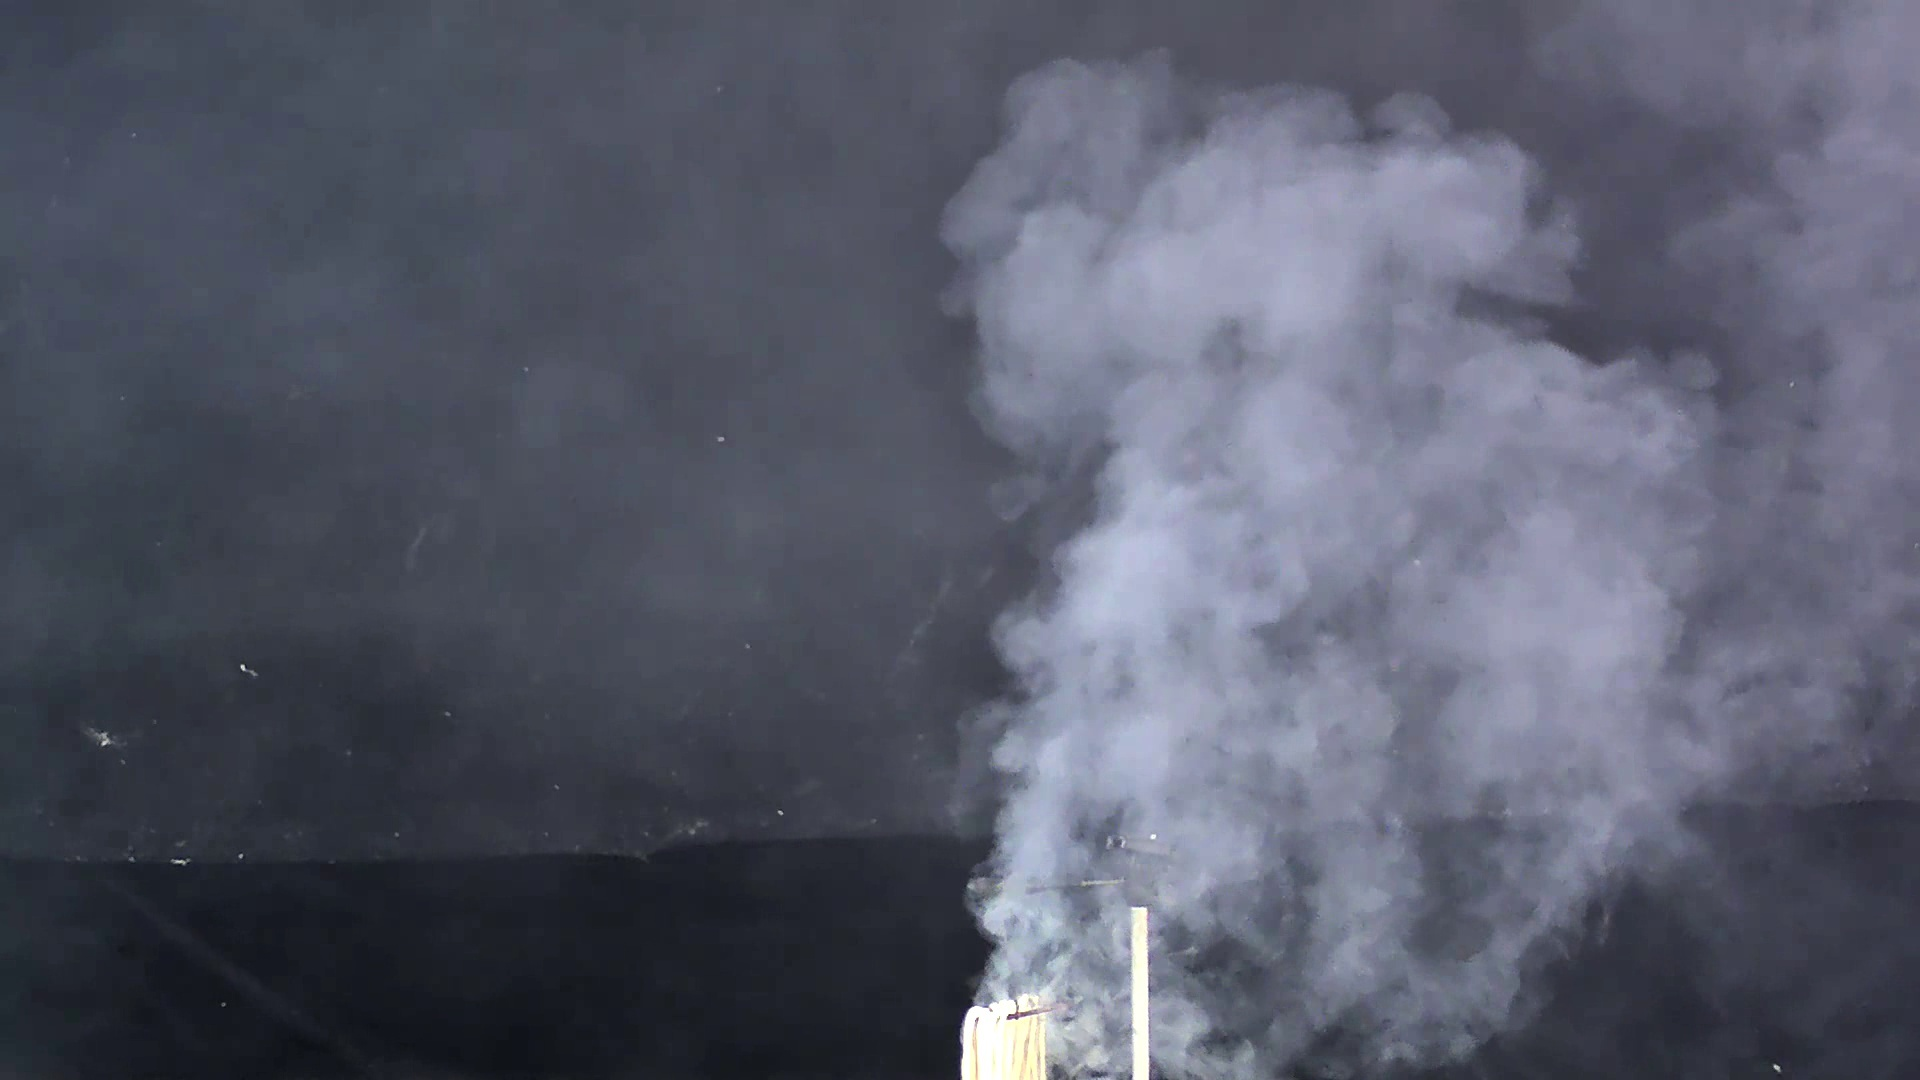smoke: (942, 44, 1721, 1051)
